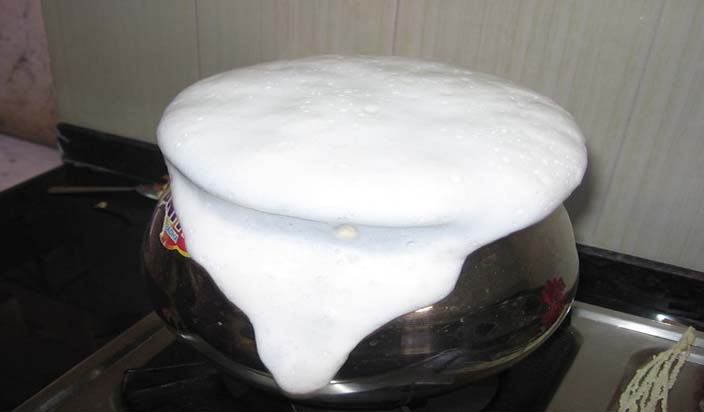Boiled: (153, 54, 621, 379)
